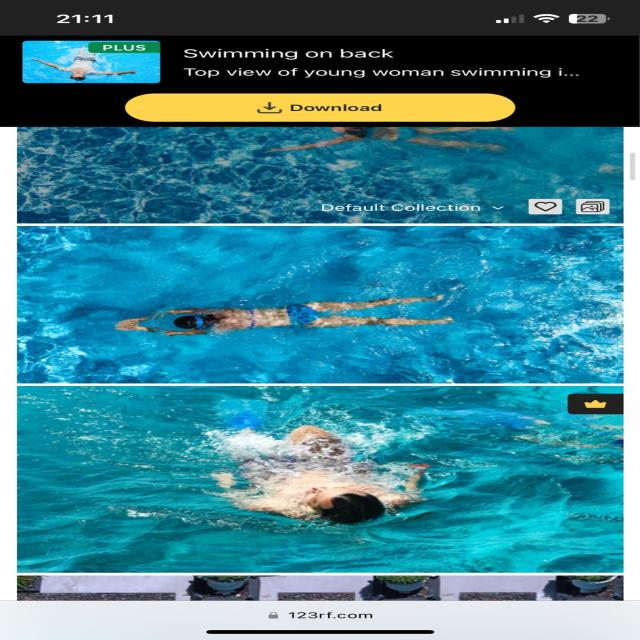Swimming: (208, 428, 441, 527), (106, 295, 456, 332)
